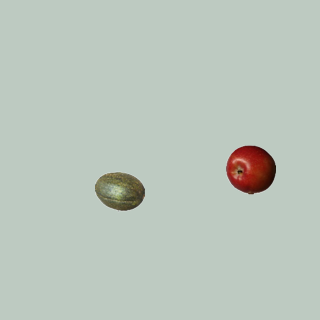Apple Braeburn: (225, 144, 275, 194)
Melon Piel de Sapo: (94, 166, 144, 216)
